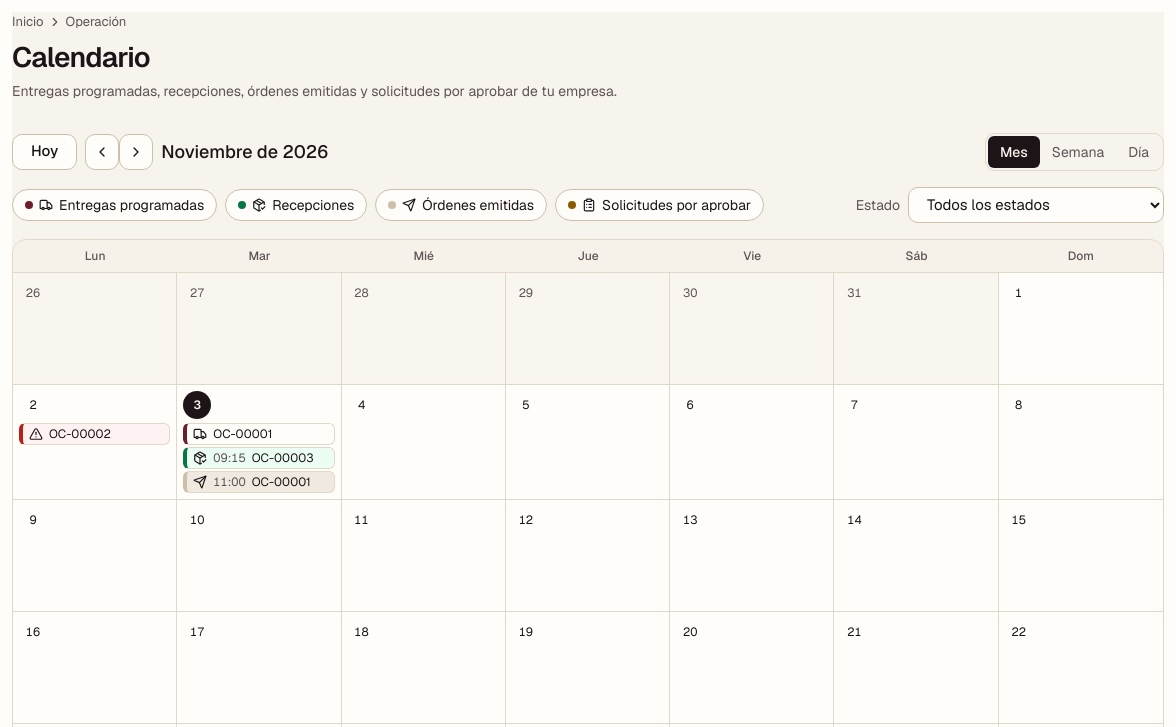
Test: Calendario › filtra por tipo de evento y por estado
The image size is (1176, 727).
Check: the button with aria-label "Entrega OC-00001," is shown, box x1=183 y1=422 x2=335 y2=444
Click the button "Recepciones".
click(296, 204)  # box x1=225 y1=188 x2=367 y2=220
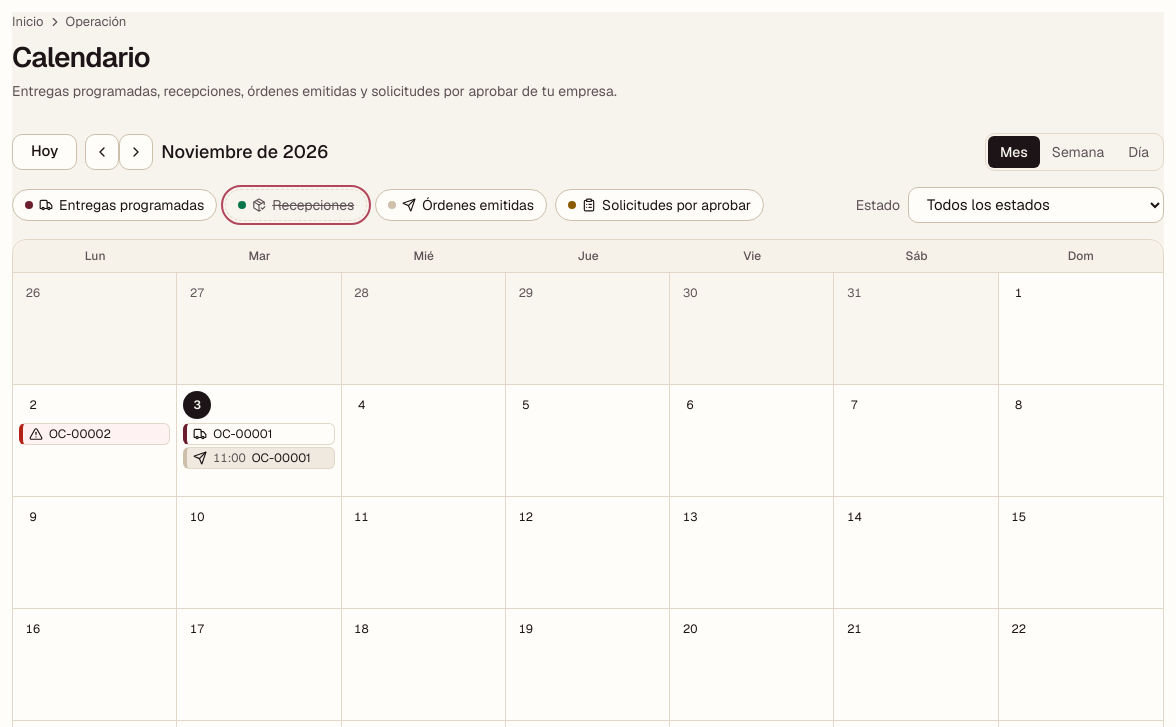
Select "Retrasadas" in the dropdown labelled "Estado" at (1036, 204), box x1=908 y1=186 x2=1164 y2=222
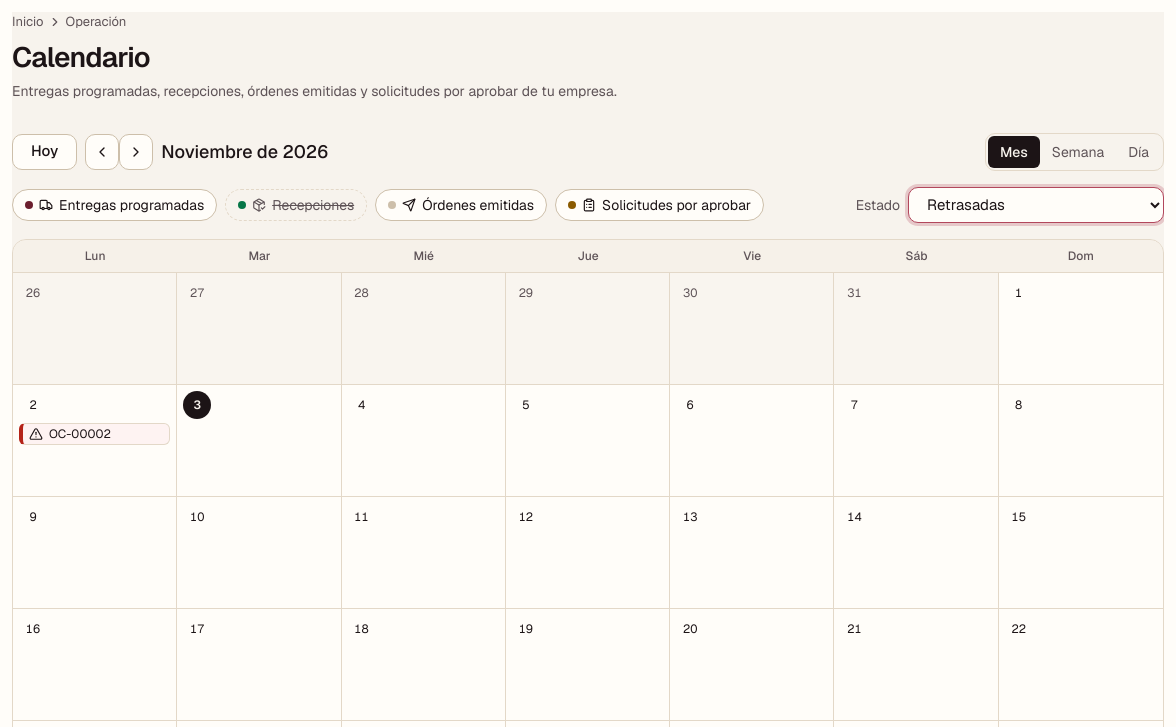
Check: the button with aria-label "Entrega OC-00002," is shown, box x1=19 y1=422 x2=170 y2=444
Select "Completas" in the dropdown labelled "Estado" at (1036, 204), box x1=908 y1=186 x2=1164 y2=222
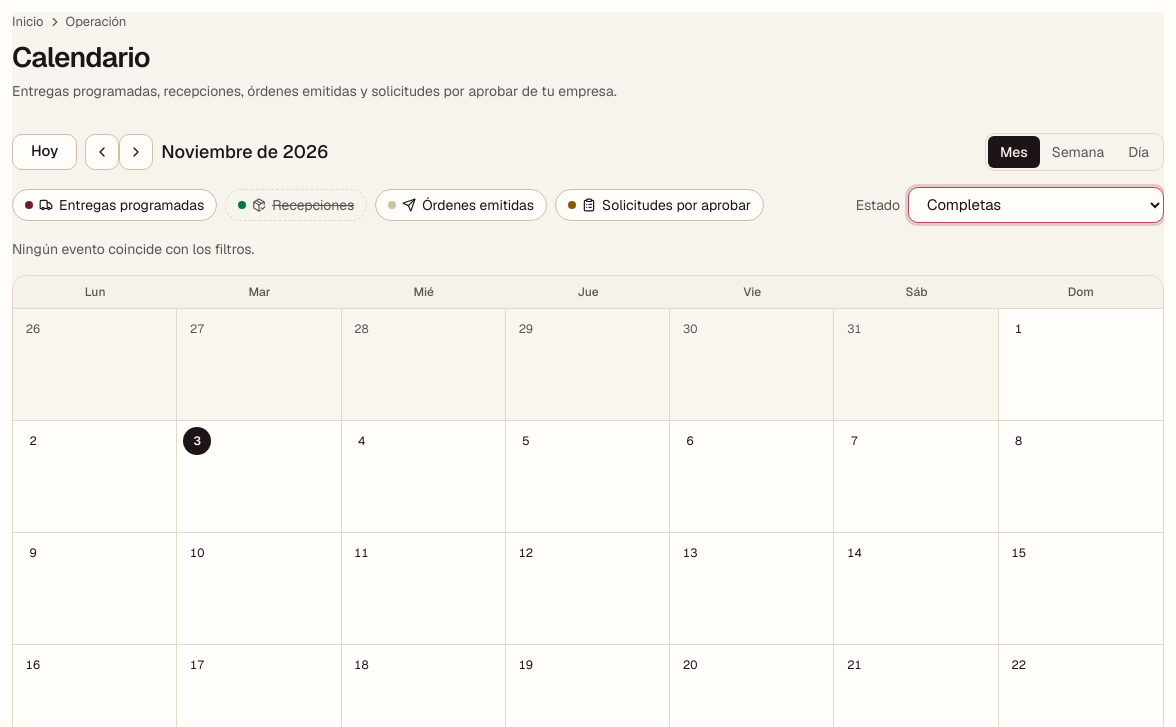
Check: the text "Ningún evento coincide con los filtros." is shown, box x1=12 y1=240 x2=254 y2=258
